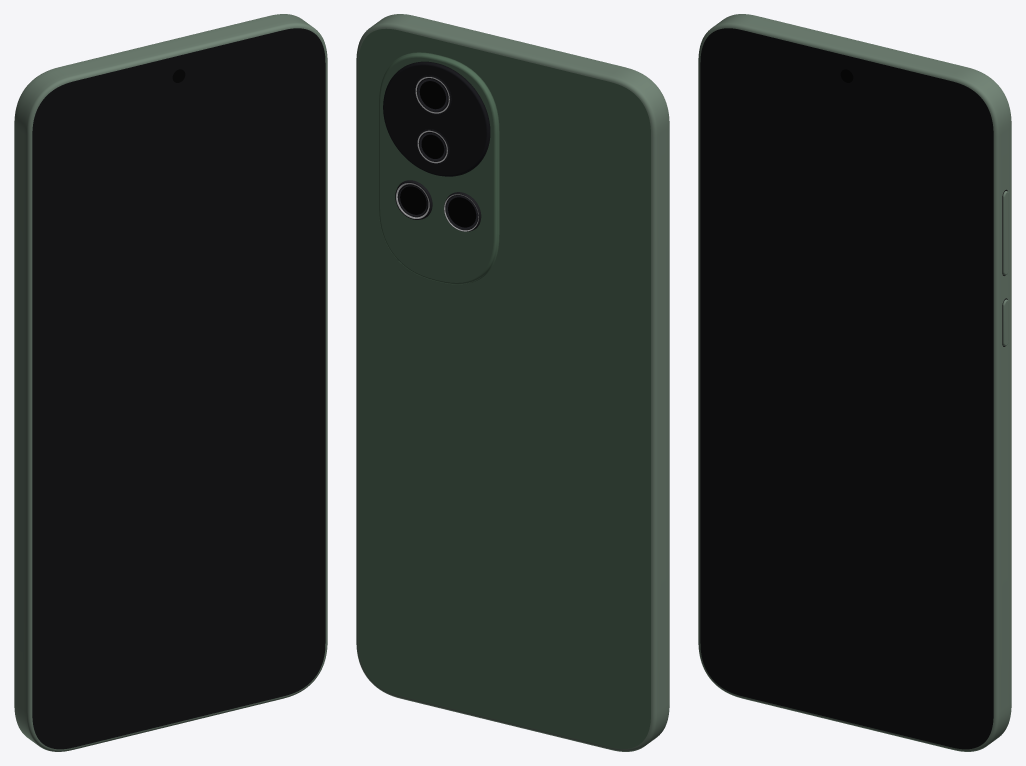
File: huawei-nova-13.glb
3 views of the same model, side by side, from view 1: azimuth 30°, elevation 25°; view 2: azimuth 150°, elevation 25°; view 3: azimuth 330°, elevation 25° (orthographic).
Visible parts, largest first — view 1: body; view 2: body, camera; view 3: body, buttons.
Boxes of the visible parts, x1,y1,x2,y2 form: body: (14, 14, 327, 751); body: (356, 14, 669, 751); camera: (379, 52, 499, 284); body: (698, 14, 1011, 751); buttons: (1002, 189, 1008, 346).
Size of the model in its own units: 75.73 by 161 by 9.16.
